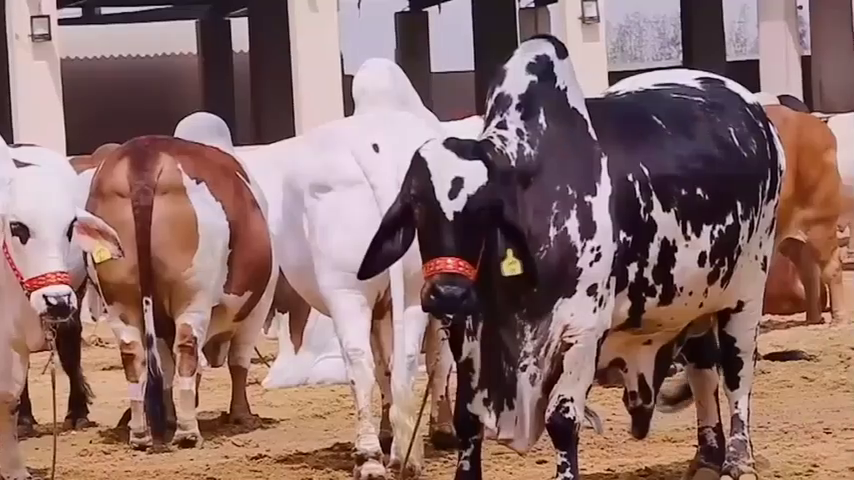bo: (377, 38, 789, 480), (257, 85, 455, 476), (70, 98, 287, 452), (1, 129, 130, 480), (727, 84, 852, 328)
